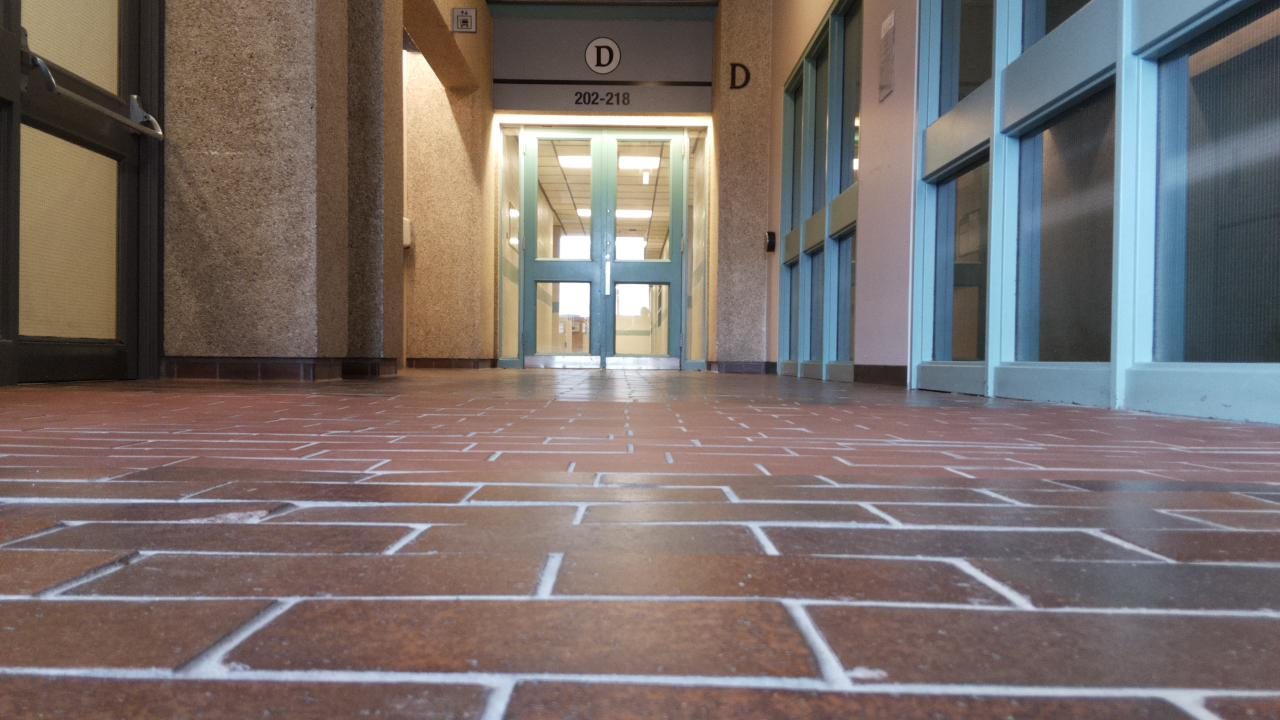door: (524, 125, 683, 369)
sign: (453, 8, 474, 30)
